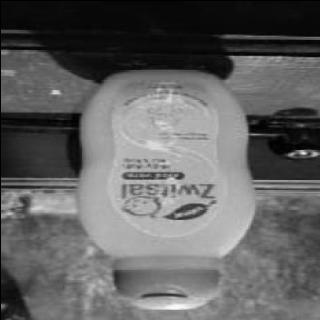objects: (77, 67, 251, 311)
